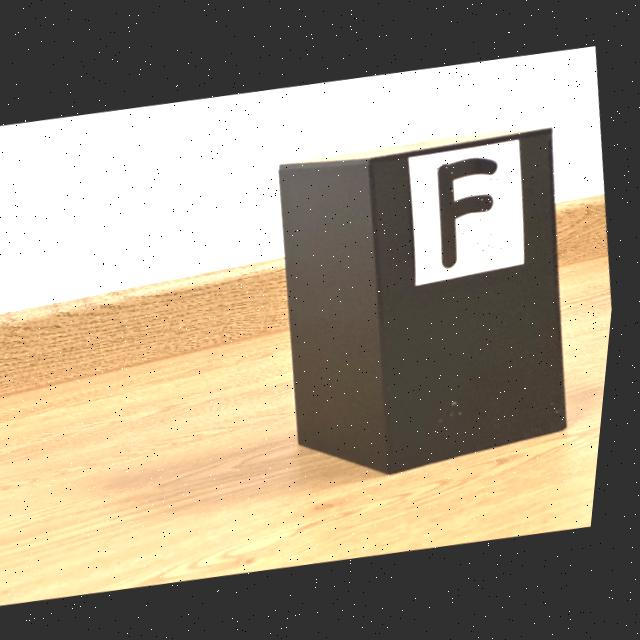F: (441, 155, 501, 266)
